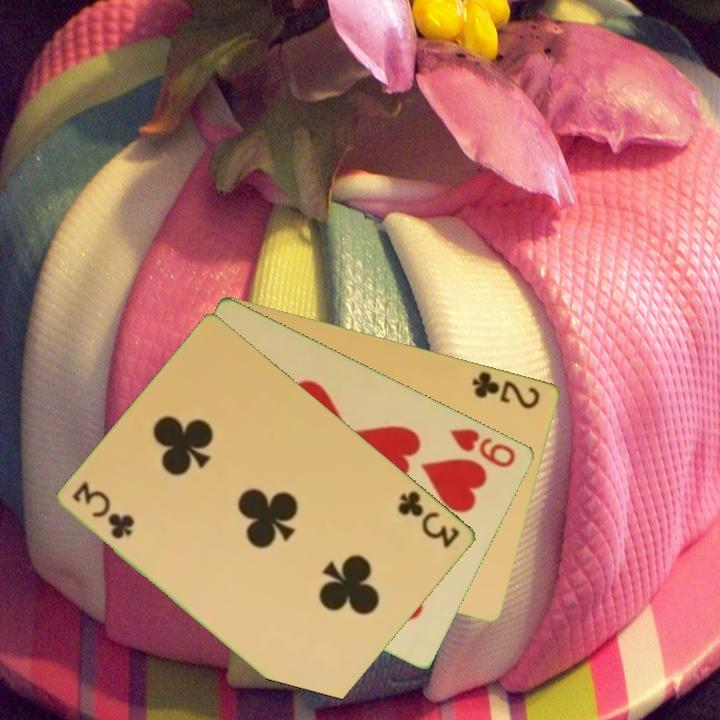2c: (469, 367, 544, 412)
3c: (394, 486, 463, 551), (69, 478, 137, 543)
9h: (446, 424, 520, 470)
